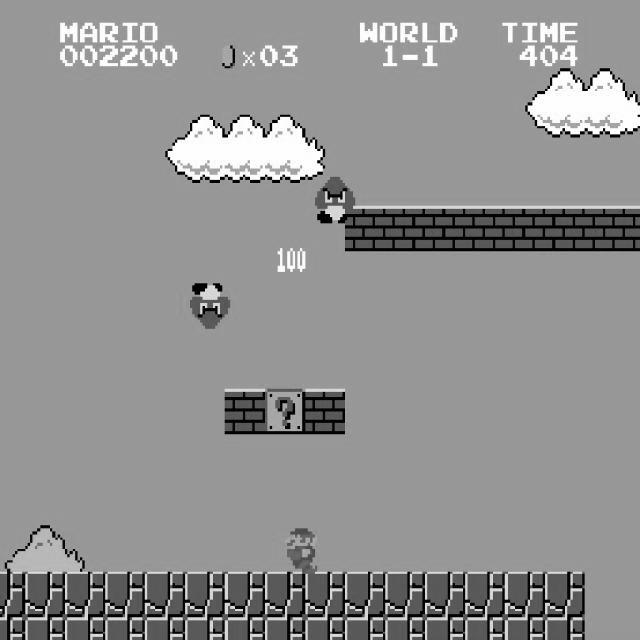1- brick_block: (224, 388, 266, 434), (304, 388, 346, 434), (344, 206, 386, 251), (384, 206, 426, 251), (424, 206, 466, 251), (464, 206, 506, 251), (504, 206, 546, 251), (544, 206, 586, 251), (584, 206, 626, 251), (625, 206, 640, 251)
11- little_mario: (277, 526, 320, 574)
13- mystery_block: (264, 388, 306, 434)
17- undestructible_block: (24, 572, 66, 618), (64, 572, 106, 618), (104, 572, 146, 618), (144, 572, 186, 618), (184, 572, 226, 618), (224, 572, 266, 618), (264, 572, 306, 618), (304, 572, 346, 618), (344, 572, 386, 618), (384, 572, 426, 618), (424, 572, 466, 618), (464, 572, 506, 618), (504, 572, 546, 618), (544, 572, 586, 618), (0, 571, 25, 617), (24, 617, 66, 640), (64, 617, 106, 640), (104, 617, 146, 640), (144, 617, 186, 640), (184, 617, 226, 640), (224, 617, 266, 640), (264, 617, 306, 640), (304, 617, 346, 640), (344, 617, 386, 640), (384, 617, 426, 640), (424, 617, 466, 640), (464, 617, 506, 640), (504, 617, 546, 640), (544, 617, 586, 640), (0, 617, 25, 639)
